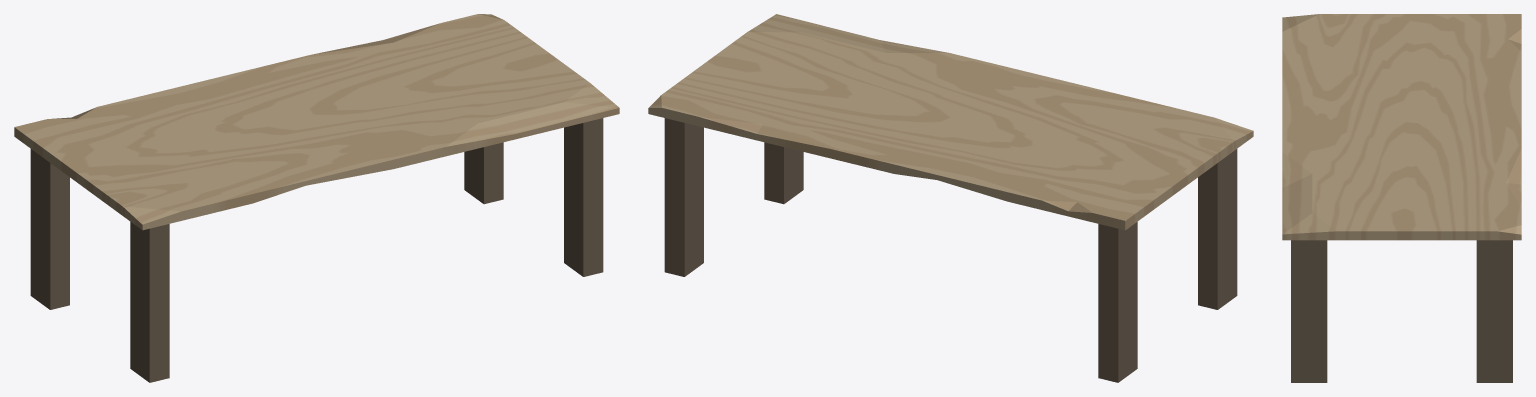
Rendered from SM_Prop_Table_01.glb.
The picture shows the model from 3 angles, left to right: view 1: azimuth 30°, elevation 25°; view 2: azimuth 150°, elevation 25°; view 3: azimuth 270°, elevation 25°; orthographic projection. The views are drawn at different scales.
Visible parts, largest first — view 1: SM_Prop_Table_01; view 2: SM_Prop_Table_01; view 3: SM_Prop_Table_01.
Part boxes in pixels (bbox=[...]): SM_Prop_Table_01: bbox=[14, 14, 619, 382]; SM_Prop_Table_01: bbox=[648, 14, 1253, 382]; SM_Prop_Table_01: bbox=[1282, 14, 1521, 382].
Size of the model in its own units: 2.05 by 0.6912 by 0.9545.
1 material, 1 textured.
